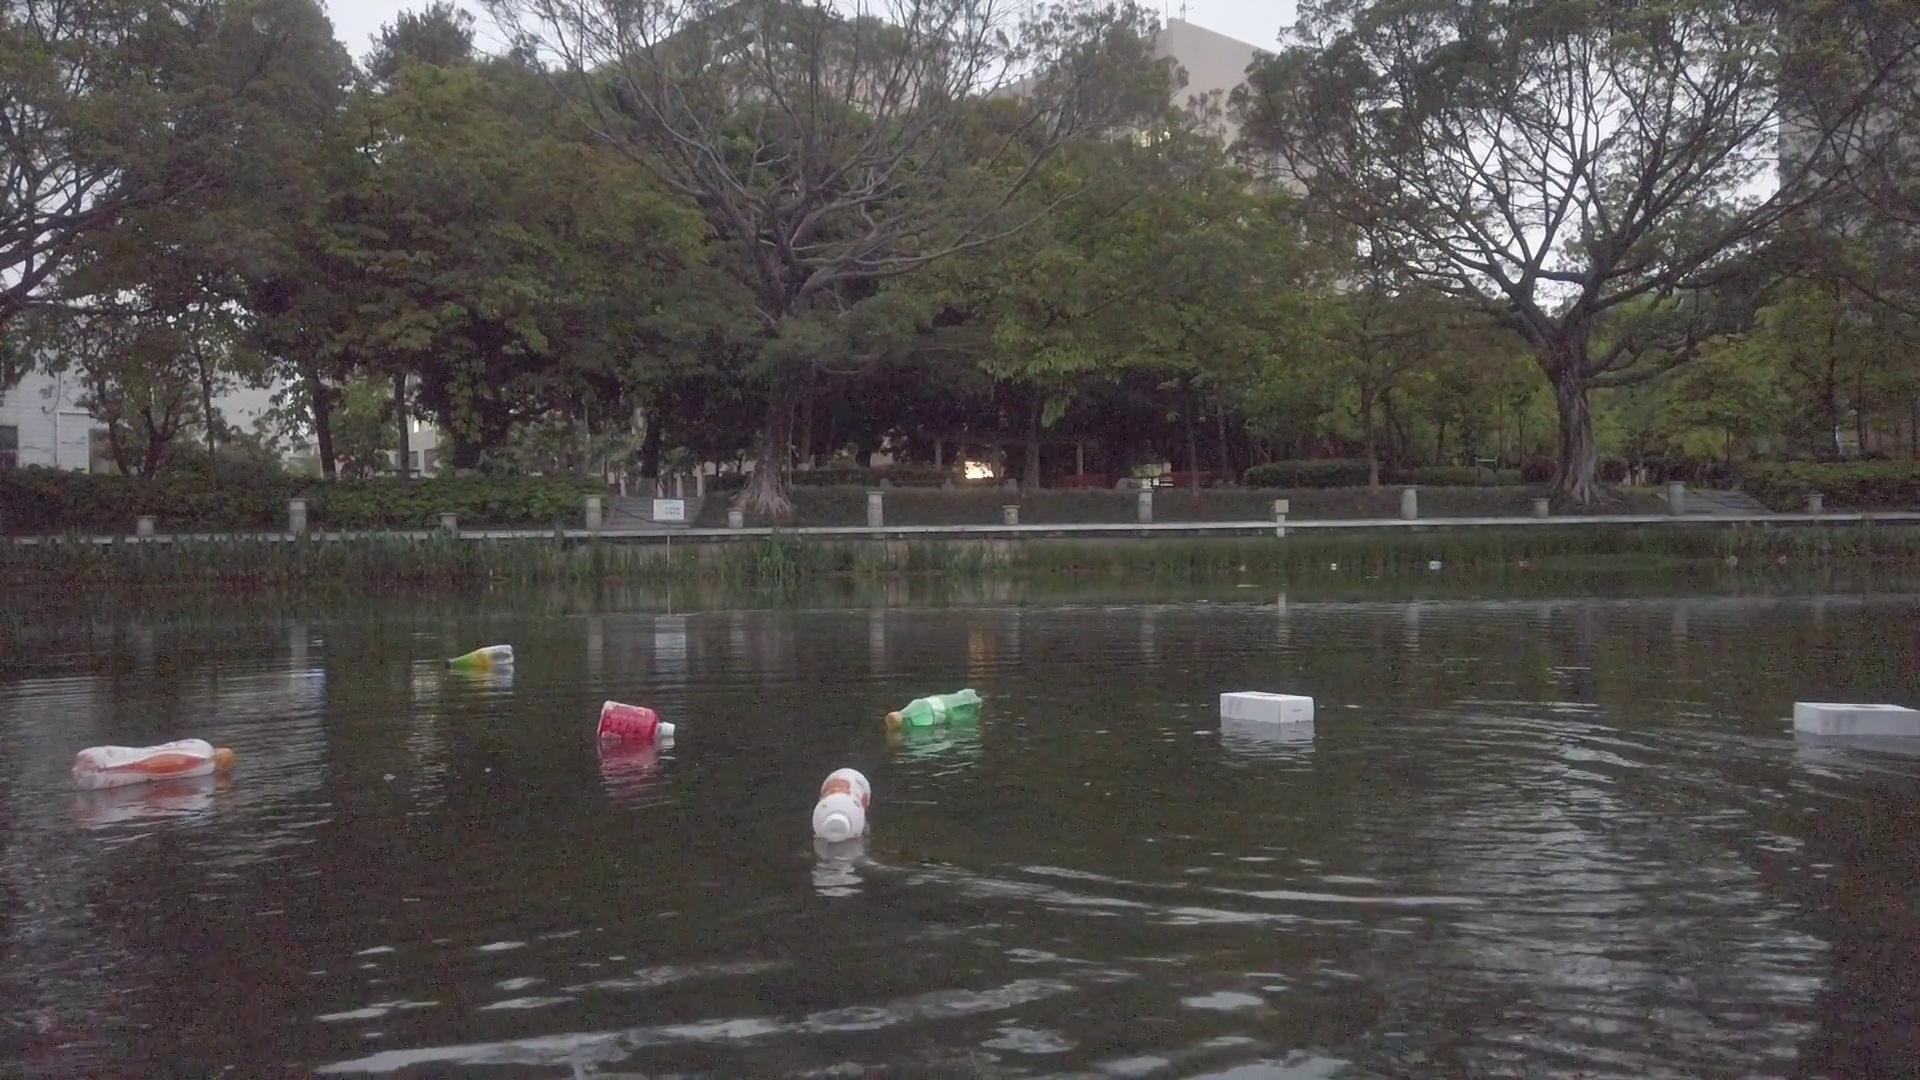bottle: (69, 741, 232, 782), (810, 762, 870, 843), (884, 688, 982, 728), (597, 695, 676, 744), (444, 644, 514, 669)
carton: (1792, 695, 1917, 738), (1220, 686, 1313, 723), (1427, 560, 1440, 570)
